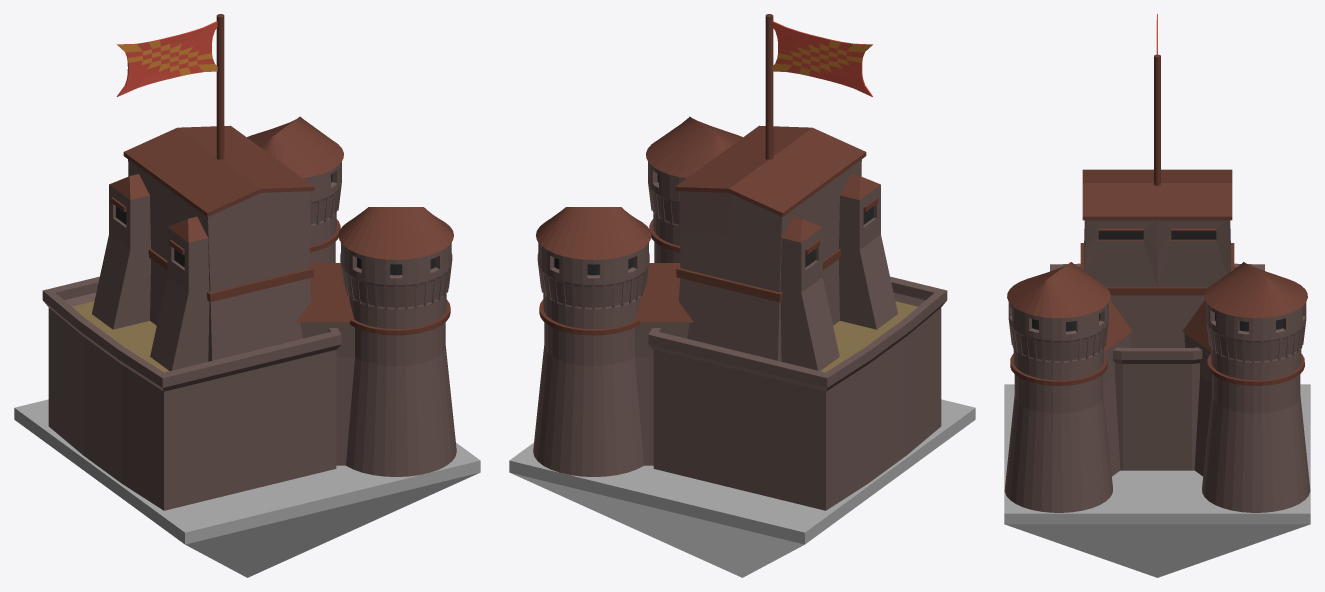
The model's file is Building Barracks T3.fbx.
3 renders of one model, left to right at view 1: azimuth 30°, elevation 25°; view 2: azimuth 150°, elevation 25°; view 3: azimuth 270°, elevation 25°, orthographic. The views are drawn at different scales.
Visible parts, largest first — view 1: Cube; view 2: Cube; view 3: Cube.
Boxes of the visible parts, <box> form: Cube: <box>14,14,480,577</box>; Cube: <box>509,14,975,577</box>; Cube: <box>1004,14,1310,577</box>.
Bounding box in the file's own units: 1604 × 2940 × 1599.
